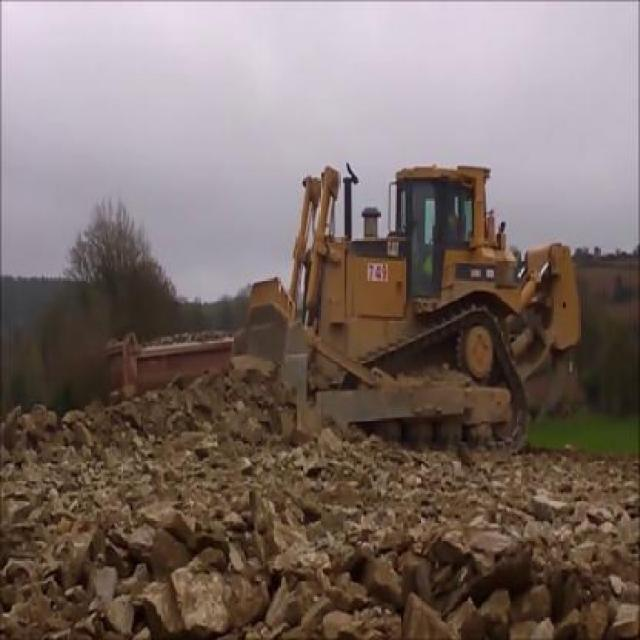Dump Truck: (108, 323, 235, 394)
